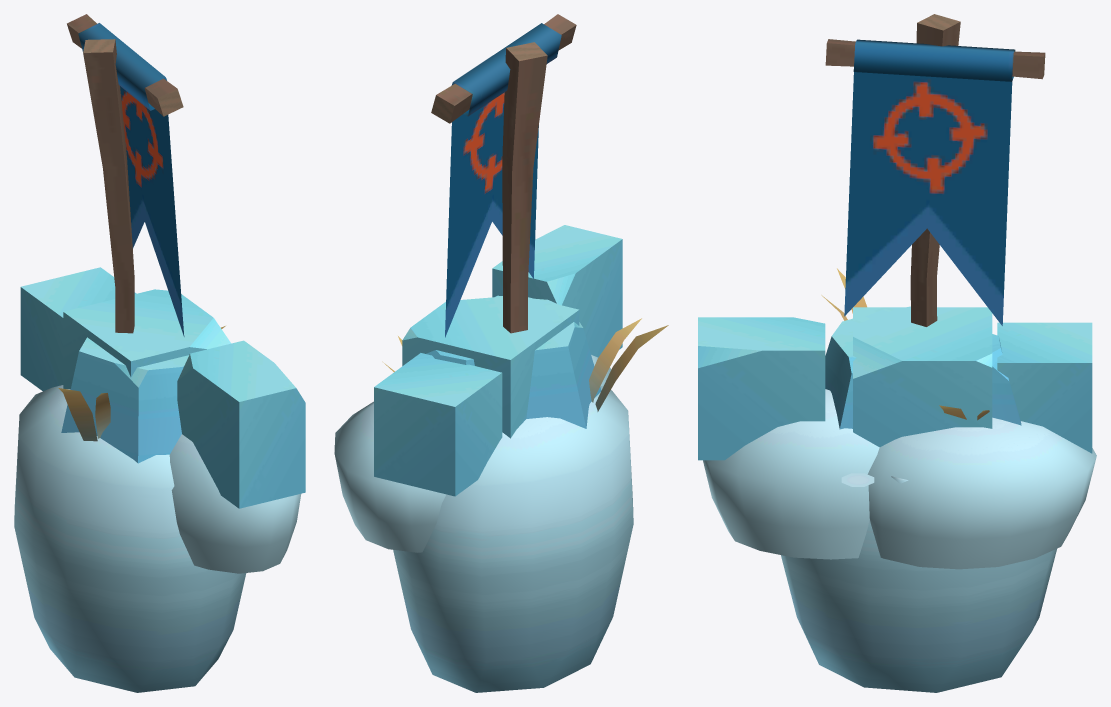
The model's file is Wall1B-005_40_25_0968.fbx.
3 renders of one model, left to right at view 1: azimuth 30°, elevation 25°; view 2: azimuth 150°, elevation 25°; view 3: azimuth 270°, elevation 25°, orthographic. The views are drawn at different scales.
Visible parts, largest first — view 1: Snowpile (7), Wall, Rock (2), Wood1.002 (1), Flag3 (1), ClothTop3 (1), grass, WoodTop (1); view 2: Snowpile (7), Wall, Flag3 (1), Wood1.002 (1), Rock (2), ClothTop3 (1), grass, WoodTop (1); view 3: Wall, Flag3 (1), Snowpile (7), ClothTop3 (1), Rock (2), Wood1.002 (1), WoodTop (1).
Part boxes in pixels (box(x1,y1,x2,y2)): Snowpile (7): box(14, 385, 246, 692); Wall: box(20, 267, 305, 573); Rock (2): box(61, 337, 213, 463); Wood1.002 (1): box(83, 39, 134, 333); Flag3 (1): box(120, 86, 184, 336); ClothTop3 (1): box(78, 23, 166, 110); grass: box(58, 388, 110, 441); WoodTop (1): box(67, 14, 183, 116); Snowpile (7): box(393, 386, 633, 692); Wall: box(334, 225, 622, 552); Flag3 (1): box(445, 92, 538, 337); Wood1.002 (1): box(502, 42, 547, 333); Rock (2): box(426, 295, 601, 428); ClothTop3 (1): box(451, 23, 561, 116); grass: box(589, 318, 668, 411); WoodTop (1): box(431, 14, 576, 123); Wall: box(698, 307, 1096, 569); Flag3 (1): box(844, 72, 1012, 325); Snowpile (7): box(781, 519, 1056, 692); ClothTop3 (1): box(853, 39, 1015, 81); Rock (2): box(825, 306, 1021, 429); Wood1.002 (1): box(910, 14, 960, 326); WoodTop (1): box(825, 39, 1045, 79).
Size of the model in its own units: 2.2 by 5.15 by 2.98.
